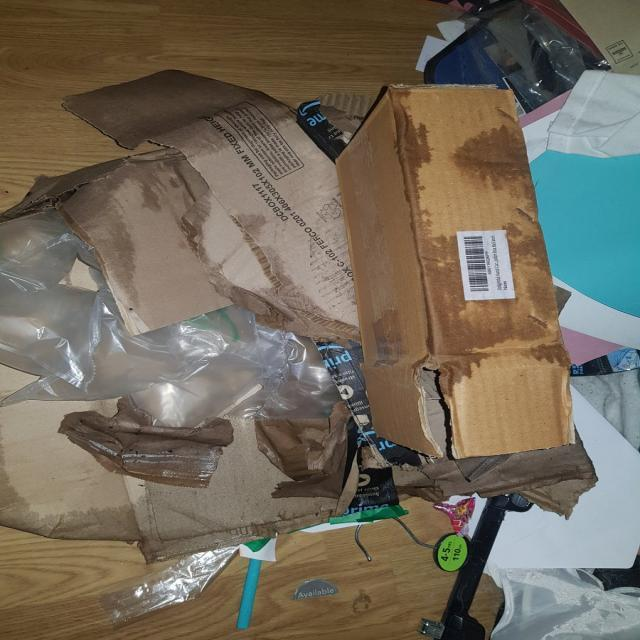wet: (424, 220, 564, 377), (382, 92, 439, 194), (452, 131, 539, 186)
